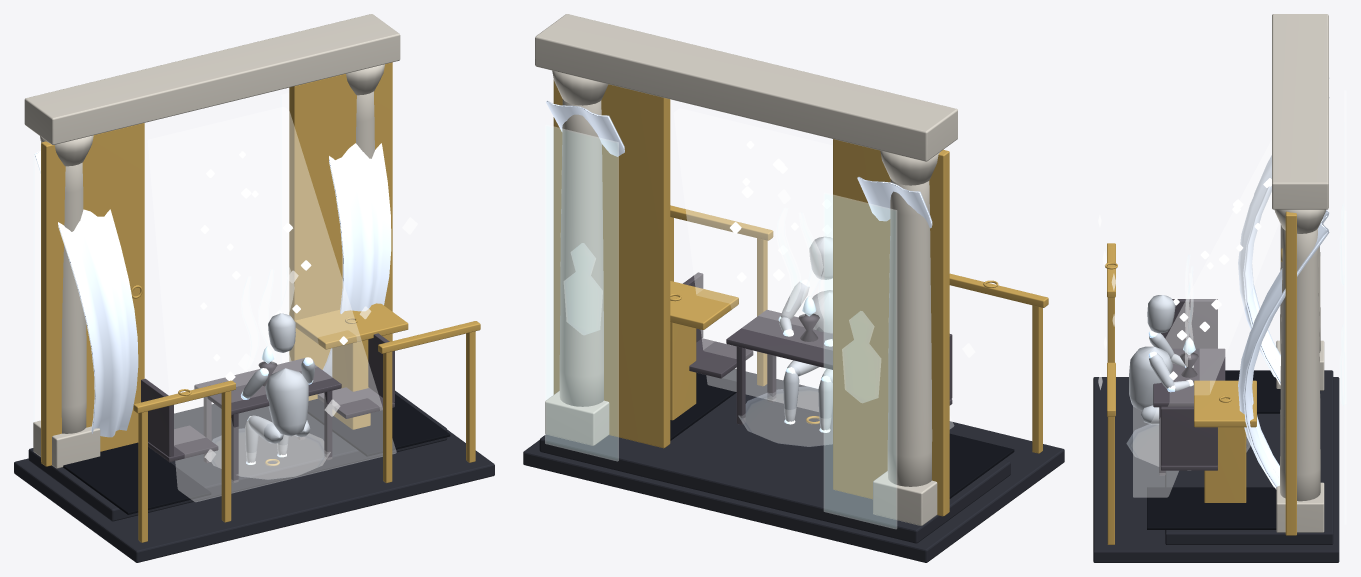
File: webtoon-vrm-pose-desk-seated-74cm-v28.glb
3 views of the same model, side by side, from view 1: azimuth 30°, elevation 25°; view 2: azimuth 150°, elevation 25°; view 3: azimuth 270°, elevation 25° (orthographic). The views are drawn at different scales.
Parts seen in each view (by area): view 1: Volumetric_V28Pose2_Seated_GodRaySlit, Articulated_V28Pose2_Seated_DoorsAndIkRig, V28Pose2_Seated_PortalColonnade, V28Pose2_Seated_DatumDeck, WindDrape_V28Pose2_Seated_CatenaryPair, Aftermath_V28Pose2_Seated_DatumProps, ShadowDrift_V28Pose2_Seated_UmbraMask, VrmMannequin_V28Pose2_Seated_Humanoid8Head, HalfMirror_V28Pose2_Seated_FresnelReflection, AftermathDust_V28Pose2_Seated_PlumeLobes, ThermalHaze_V28Pose2_Seated_ConvectiveRibbons, Atmospheric_V28Pose2_Seated_FgBokehLayer (+1 smaller); view 2: Articulated_V28Pose2_Seated_DoorsAndIkRig, V28Pose2_Seated_PortalColonnade, HalfMirror_V28Pose2_Seated_FresnelReflection, V28Pose2_Seated_DatumDeck, Volumetric_V28Pose2_Seated_GodRaySlit, Aftermath_V28Pose2_Seated_DatumProps, ShadowDrift_V28Pose2_Seated_UmbraMask, VrmMannequin_V28Pose2_Seated_Humanoid8Head, AftermathDust_V28Pose2_Seated_PlumeLobes, WindDrape_V28Pose2_Seated_CatenaryPair, ThermalHaze_V28Pose2_Seated_ConvectiveRibbons, Atmospheric_V28Pose2_Seated_MidMotes; view 3: V28Pose2_Seated_PortalColonnade, V28Pose2_Seated_DatumDeck, Volumetric_V28Pose2_Seated_GodRaySlit, Articulated_V28Pose2_Seated_DoorsAndIkRig, Aftermath_V28Pose2_Seated_DatumProps, WindDrape_V28Pose2_Seated_CatenaryPair, ShadowDrift_V28Pose2_Seated_UmbraMask, VrmMannequin_V28Pose2_Seated_Humanoid8Head, HalfMirror_V28Pose2_Seated_FresnelReflection, AftermathDust_V28Pose2_Seated_PlumeLobes, Atmospheric_V28Pose2_Seated_MidMotes, ThermalHaze_V28Pose2_Seated_ConvectiveRibbons.
Boxes of the visible parts, bbox=[...] form: Volumetric_V28Pose2_Seated_GodRaySlit: bbox=[148, 107, 396, 501]; Articulated_V28Pose2_Seated_DoorsAndIkRig: bbox=[41, 62, 480, 542]; V28Pose2_Seated_PortalColonnade: bbox=[24, 14, 400, 468]; V28Pose2_Seated_DatumDeck: bbox=[14, 390, 494, 562]; WindDrape_V28Pose2_Seated_CatenaryPair: bbox=[34, 143, 391, 437]; Aftermath_V28Pose2_Seated_DatumProps: bbox=[141, 333, 394, 482]; ShadowDrift_V28Pose2_Seated_UmbraMask: bbox=[63, 394, 450, 514]; VrmMannequin_V28Pose2_Seated_Humanoid8Head: bbox=[241, 313, 315, 462]; HalfMirror_V28Pose2_Seated_FresnelReflection: bbox=[34, 93, 288, 421]; AftermathDust_V28Pose2_Seated_PlumeLobes: bbox=[212, 429, 330, 479]; ThermalHaze_V28Pose2_Seated_ConvectiveRibbons: bbox=[241, 267, 294, 368]; Atmospheric_V28Pose2_Seated_FgBokehLayer: bbox=[204, 217, 417, 461]; Articulated_V28Pose2_Seated_DoorsAndIkRig: bbox=[553, 80, 1048, 516]; V28Pose2_Seated_PortalColonnade: bbox=[535, 14, 957, 525]; HalfMirror_V28Pose2_Seated_FresnelReflection: bbox=[545, 125, 896, 528]; V28Pose2_Seated_DatumDeck: bbox=[523, 369, 1064, 562]; Volumetric_V28Pose2_Seated_GodRaySlit: bbox=[674, 108, 953, 428]; Aftermath_V28Pose2_Seated_DatumProps: bbox=[683, 272, 952, 424]; ShadowDrift_V28Pose2_Seated_UmbraMask: bbox=[670, 372, 1014, 498]; VrmMannequin_V28Pose2_Seated_Humanoid8Head: bbox=[779, 237, 832, 430]; AftermathDust_V28Pose2_Seated_PlumeLobes: bbox=[739, 386, 832, 446]; WindDrape_V28Pose2_Seated_CatenaryPair: bbox=[546, 100, 932, 228]; ThermalHaze_V28Pose2_Seated_ConvectiveRibbons: bbox=[776, 208, 823, 317]; Atmospheric_V28Pose2_Seated_MidMotes: bbox=[730, 141, 831, 281]; V28Pose2_Seated_PortalColonnade: bbox=[1272, 14, 1328, 532]; V28Pose2_Seated_DatumDeck: bbox=[1093, 370, 1339, 562]; Volumetric_V28Pose2_Seated_GodRaySlit: bbox=[1133, 140, 1279, 497]; Articulated_V28Pose2_Seated_DoorsAndIkRig: bbox=[1105, 211, 1296, 544]; Aftermath_V28Pose2_Seated_DatumProps: bbox=[1153, 299, 1225, 475]; WindDrape_V28Pose2_Seated_CatenaryPair: bbox=[1238, 78, 1329, 489]; ShadowDrift_V28Pose2_Seated_UmbraMask: bbox=[1147, 371, 1280, 529]; VrmMannequin_V28Pose2_Seated_Humanoid8Head: bbox=[1129, 295, 1189, 424]; HalfMirror_V28Pose2_Seated_FresnelReflection: bbox=[1340, 90, 1346, 524]; AftermathDust_V28Pose2_Seated_PlumeLobes: bbox=[1127, 424, 1250, 466]; Atmospheric_V28Pose2_Seated_MidMotes: bbox=[1169, 178, 1271, 380]; ThermalHaze_V28Pose2_Seated_ConvectiveRibbons: bbox=[1185, 255, 1193, 366].
Bounding box in the file's own units: 2.76 × 2.78 × 1.69.
